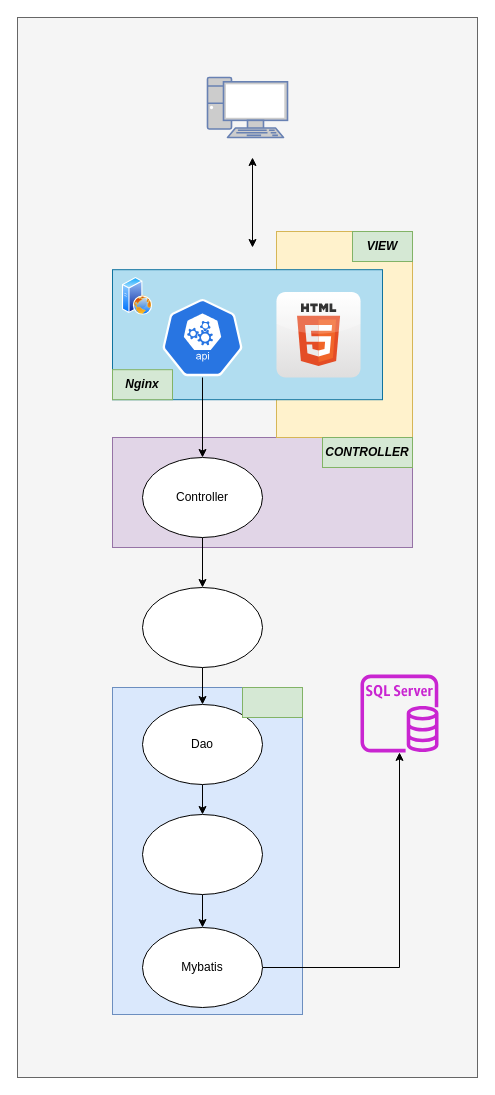
Image size: 495x1095. Some labels were removed from this diagram. Here are the shapes that lost their labels. From the top down, the centre of each, then its label:
At point (202, 627): "Service".
At point (272, 702): "MODEL".
At point (202, 854): "Java Bean".
